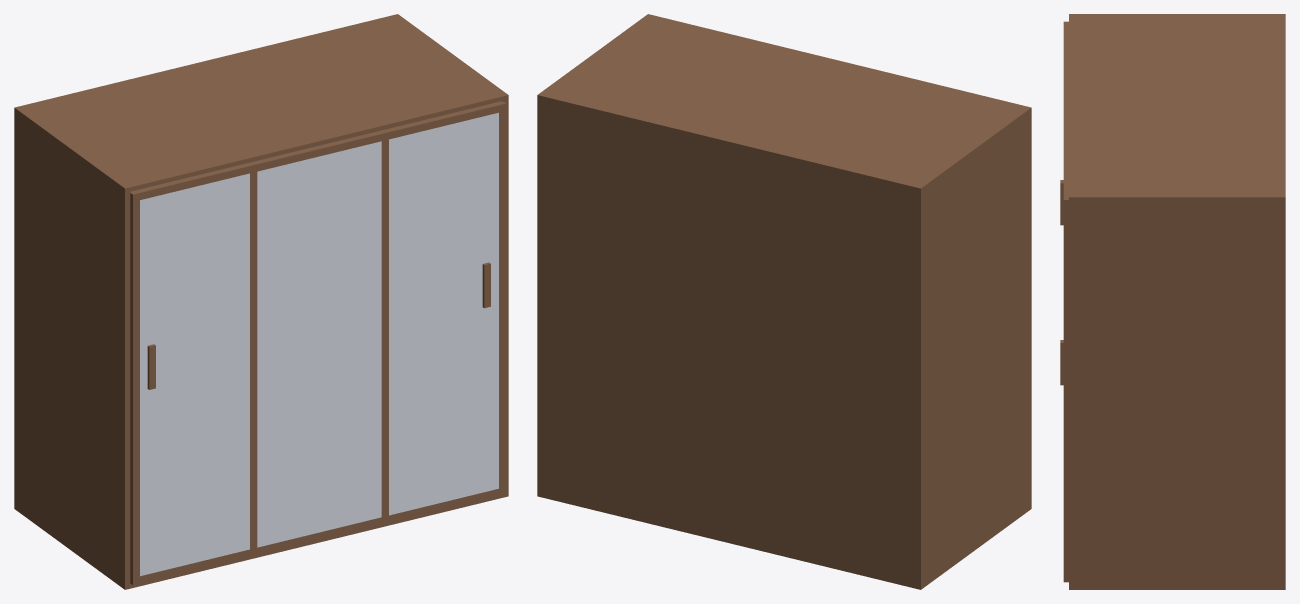
File: 5_wardrobe_v3.fbx
The picture shows the model from 3 angles, left to right: view 1: azimuth 30°, elevation 25°; view 2: azimuth 150°, elevation 25°; view 3: azimuth 270°, elevation 25°; orthographic projection. The views are drawn at different scales.
Parts seen in each view (by area): view 1: 5_wardrobe_2; view 2: 5_wardrobe_2; view 3: 5_wardrobe_2.
Part boxes in pixels (x1=…): 5_wardrobe_2: x1=14, y1=14, x2=508, y2=589; 5_wardrobe_2: x1=537, y1=14, x2=1031, y2=589; 5_wardrobe_2: x1=1060, y1=14, x2=1285, y2=589.
Size of the model in its own units: 200 by 200 by 104.
